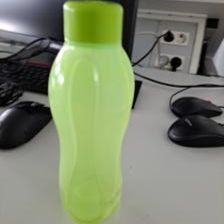bottle: (49, 2, 136, 223)
